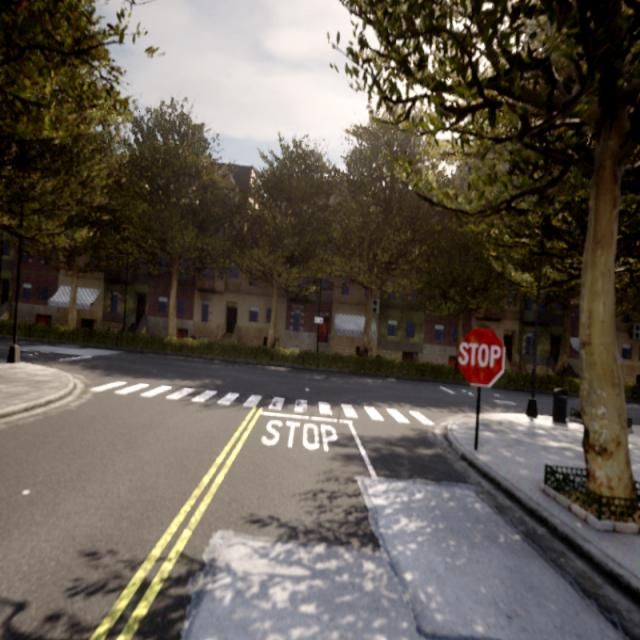stop sign: (454, 324, 506, 389), (457, 340, 502, 369)
